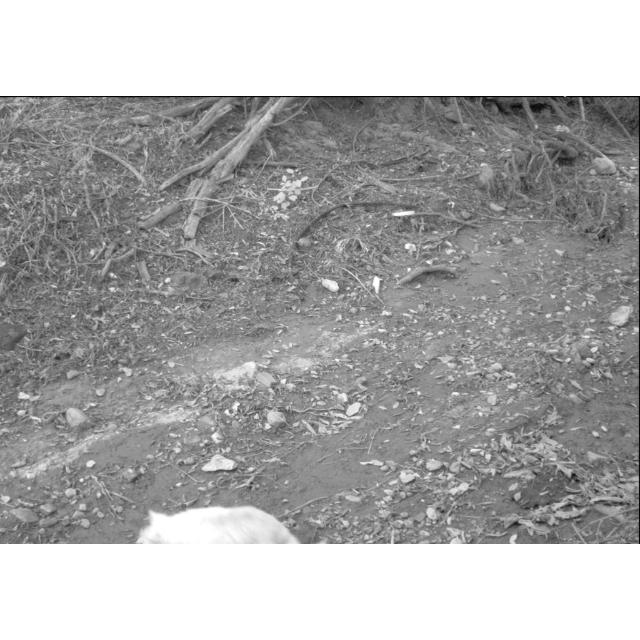animals: (134, 506, 330, 544)
